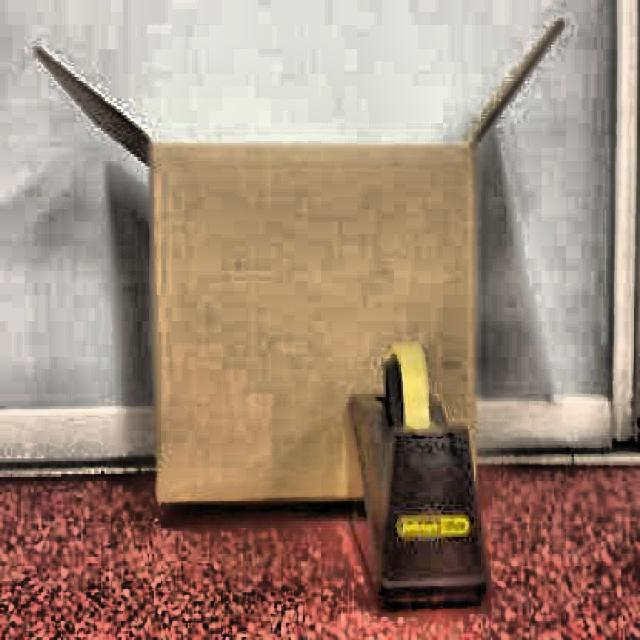Cardbox: (33, 14, 566, 538)
